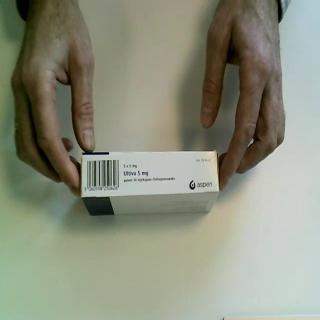ultiva5mg: (80, 149, 221, 219)
